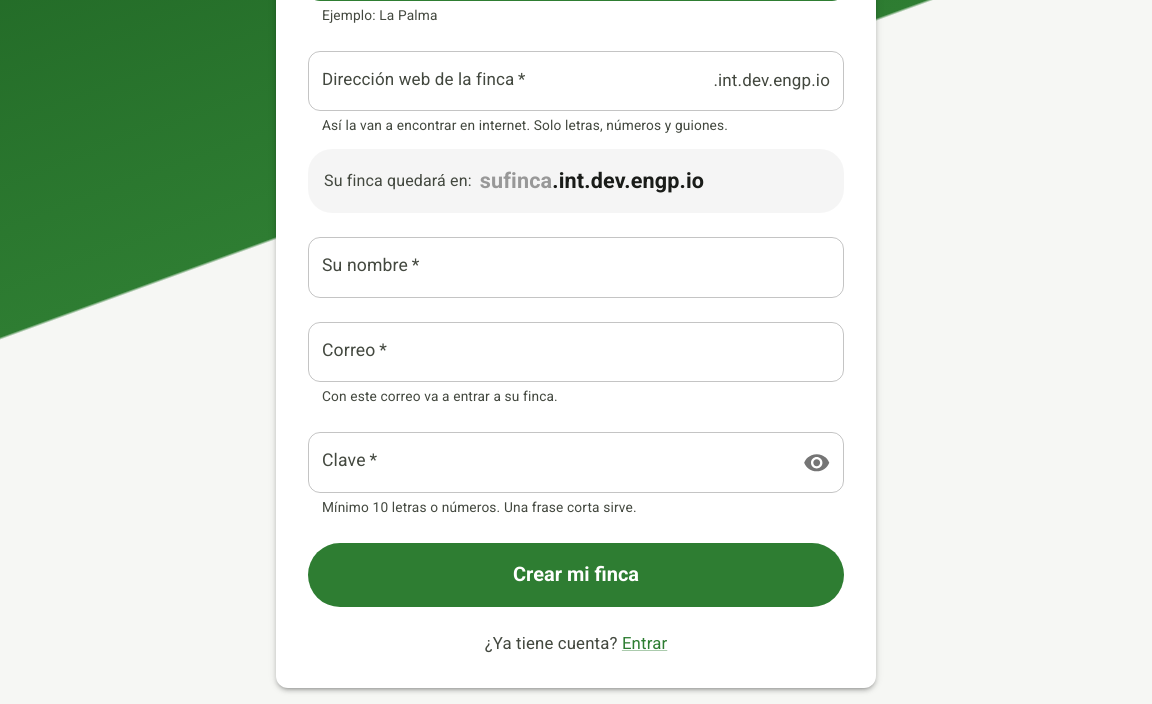
Test case: checked before sending › names every missing field
(page scrolled)
Click the button "Crear mi finca".
click(576, 575)  # box [308, 543, 844, 607]
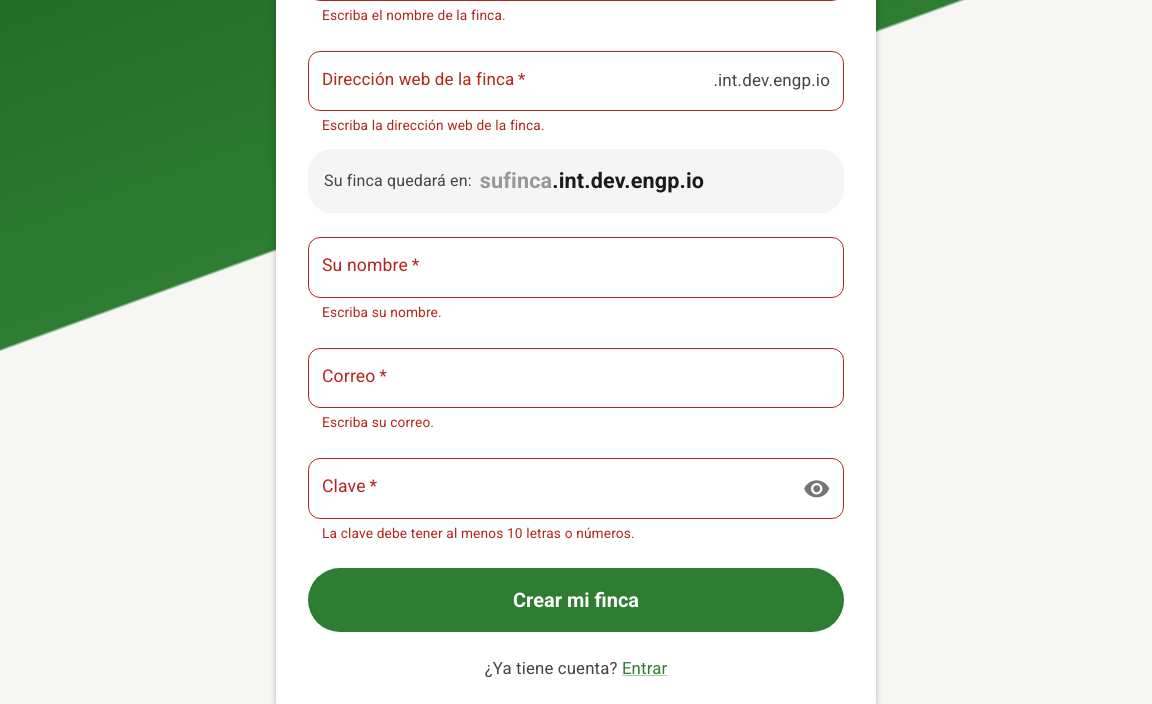
Expected: the text "Escriba el nombre de la finca." is shown, [322, 7, 506, 23]
Expected: the text "Escriba su nombre." is shown, [322, 304, 442, 320]
Expected: the text "Escriba su correo." is shown, [322, 414, 434, 430]
